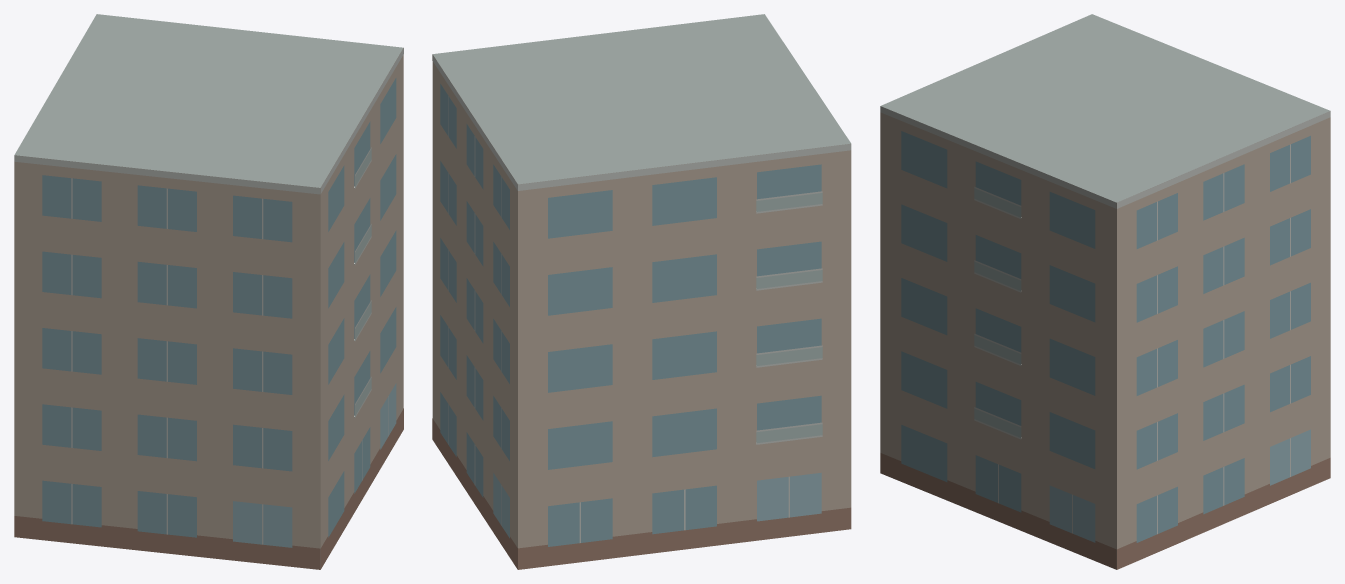
Rendered from survey-upis-32950198.glb.
The picture shows the model from 3 angles, left to right: view 1: azimuth 30°, elevation 25°; view 2: azimuth 150°, elevation 25°; view 3: azimuth 270°, elevation 25°; orthographic projection. The views are drawn at different scales.
Visible parts, largest first — view 1: survey-upis-32950198.tmp; view 2: survey-upis-32950198.tmp; view 3: survey-upis-32950198.tmp.
Boxes of the visible parts, left/top/right/bottom form: survey-upis-32950198.tmp: left=14, top=14, right=403, bottom=569; survey-upis-32950198.tmp: left=432, top=14, right=851, bottom=569; survey-upis-32950198.tmp: left=880, top=14, right=1330, bottom=569.
Bounding box in the file's own units: 15.66 × 14.2 × 15.79.
